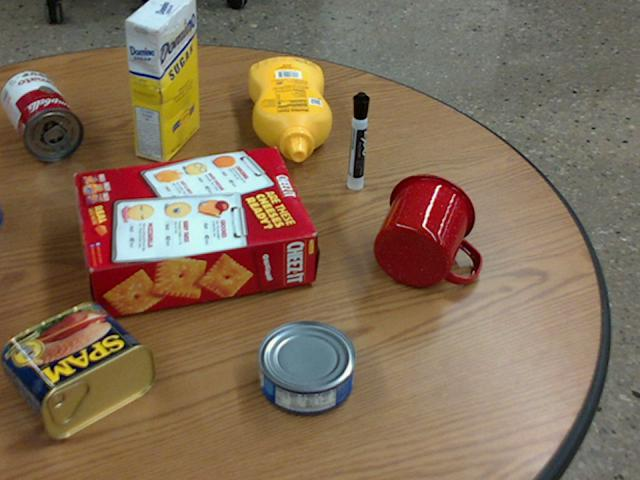cracker_box: (77, 148, 317, 318)
large_marker: (348, 91, 369, 189)
master_chef_can: (0, 201, 3, 226)
mug: (375, 173, 481, 287)
mustard_bottle: (249, 57, 332, 160)
potted_meat_can: (0, 300, 153, 438)
sugar_box: (126, 0, 199, 162)
tomato_soup_can: (2, 71, 83, 159)
tuna_fish_can: (256, 320, 354, 415)
